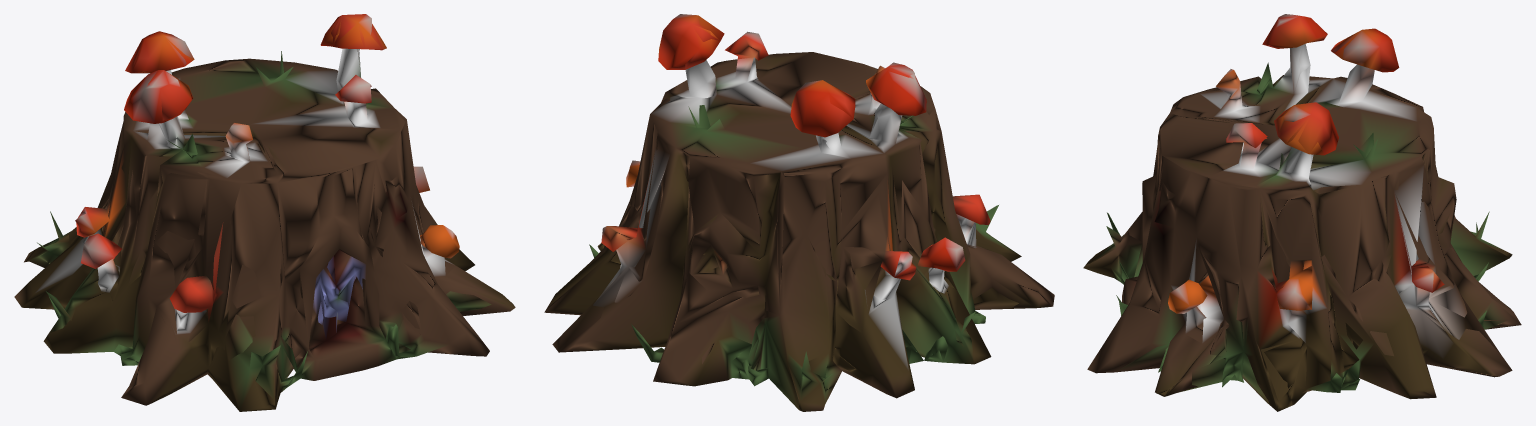
File: gen3d-enchanted-stump-lod0.glb
3 views of the same model, side by side, from view 1: azimuth 30°, elevation 25°; view 2: azimuth 150°, elevation 25°; view 3: azimuth 270°, elevation 25° (orthographic). The views are drawn at different scales.
Parts seen in each view (by area): view 1: part_0; view 2: part_0; view 3: part_0.
Part boxes in pixels (left/top/right/bottom): part_0: left=14, top=14, right=515, bottom=411; part_0: left=544, top=14, right=1054, bottom=411; part_0: left=1083, top=14, right=1521, bottom=411.
Bounding box in the file's own units: 1.59 × 0.9899 × 1.53.
